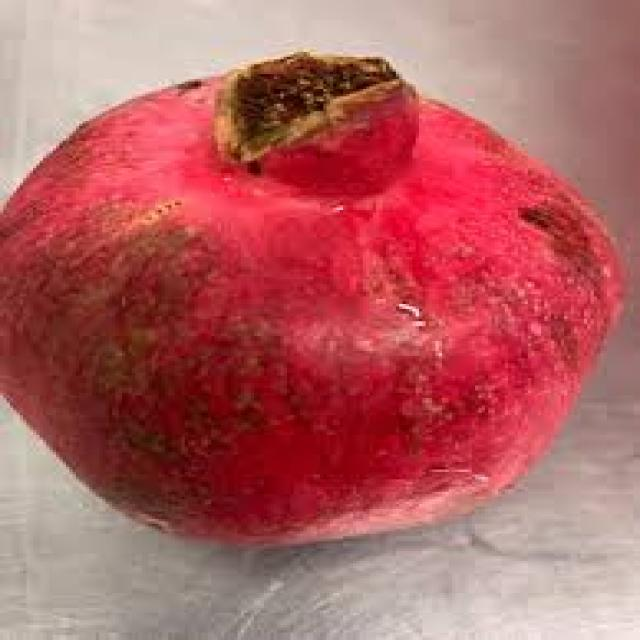overripe: (0, 44, 634, 553)
